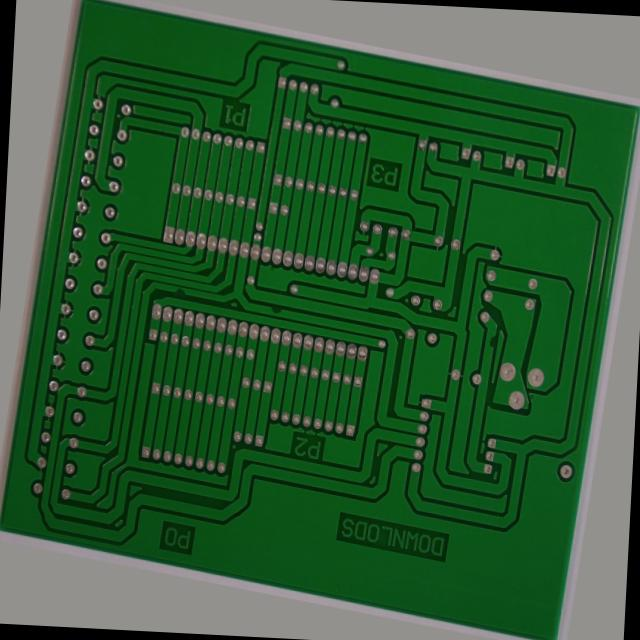mouse_bite: (505, 304, 518, 328), (262, 308, 282, 323), (156, 304, 173, 319)
